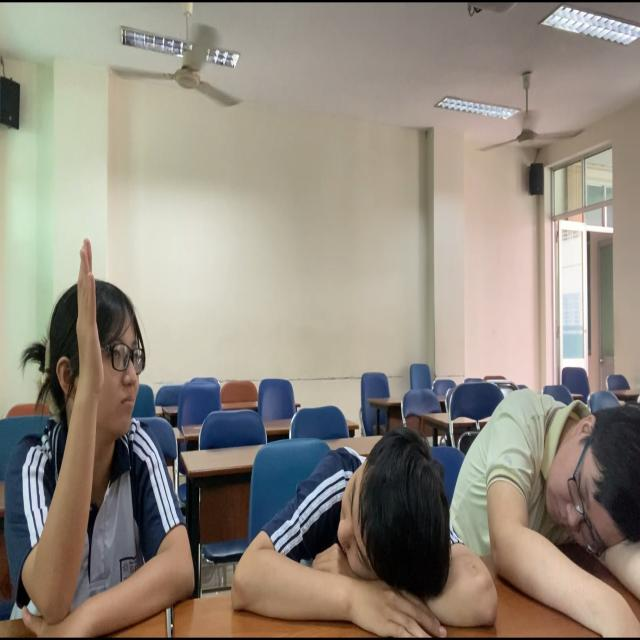raise_hand: (1, 233, 196, 640)
sleep: (229, 432, 475, 632), (461, 373, 640, 618)
